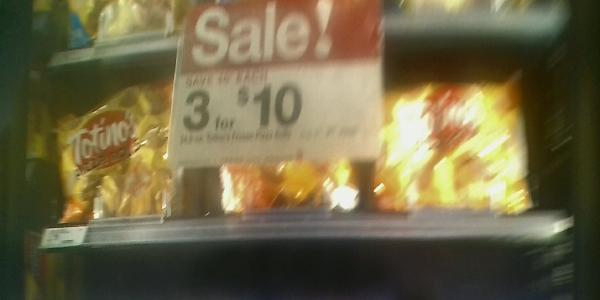icecream: (378, 59, 544, 222), (201, 58, 371, 214), (43, 71, 169, 220)
